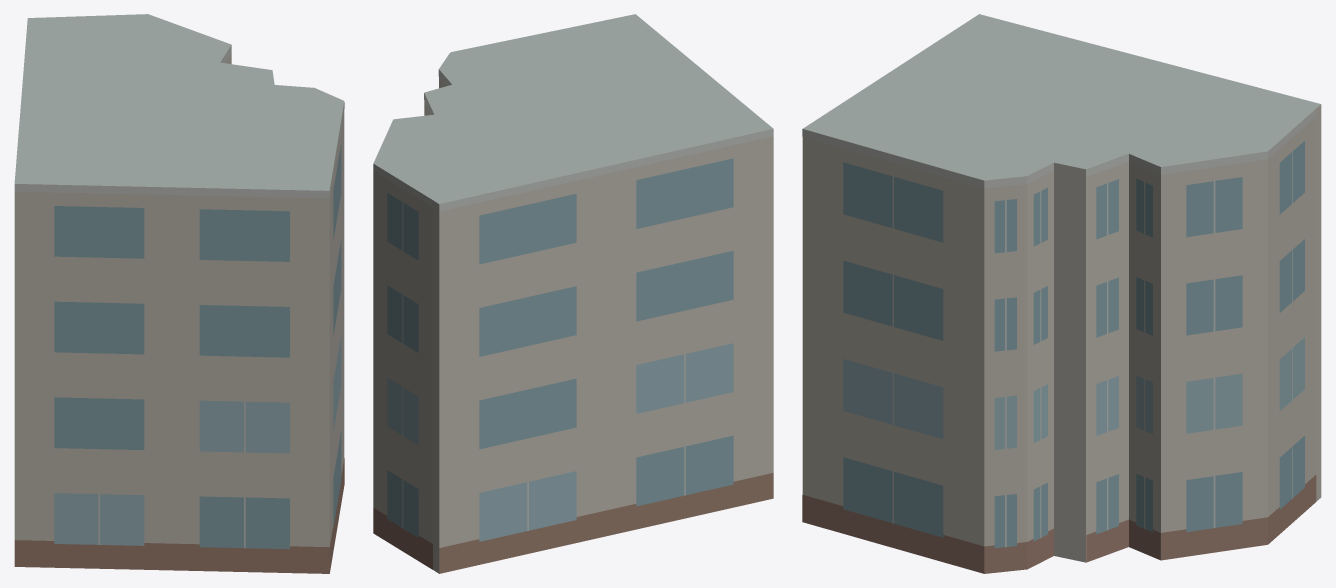
File: survey-upis-32606281.glb
3 views of the same model, side by side, from view 1: azimuth 30°, elevation 25°; view 2: azimuth 150°, elevation 25°; view 3: azimuth 270°, elevation 25° (orthographic). The views are drawn at different scales.
Visible parts, largest first — view 1: survey-upis-32606281.tmp; view 2: survey-upis-32606281.tmp; view 3: survey-upis-32606281.tmp.
Part boxes in pixels (x1,y1,x2,y2): survey-upis-32606281.tmp: [14, 14, 344, 573]; survey-upis-32606281.tmp: [373, 14, 773, 573]; survey-upis-32606281.tmp: [802, 14, 1321, 573].
Bounding box in the file's own units: 11.09 × 12.2 × 14.6.
